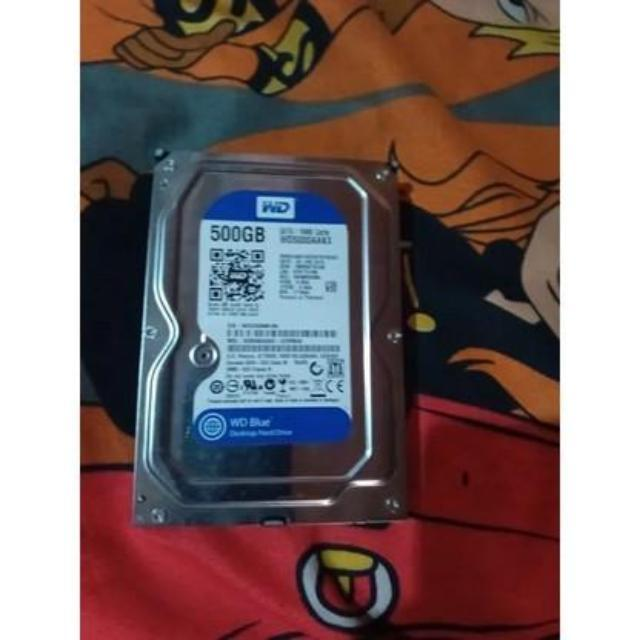DISK: (137, 144, 403, 538)
